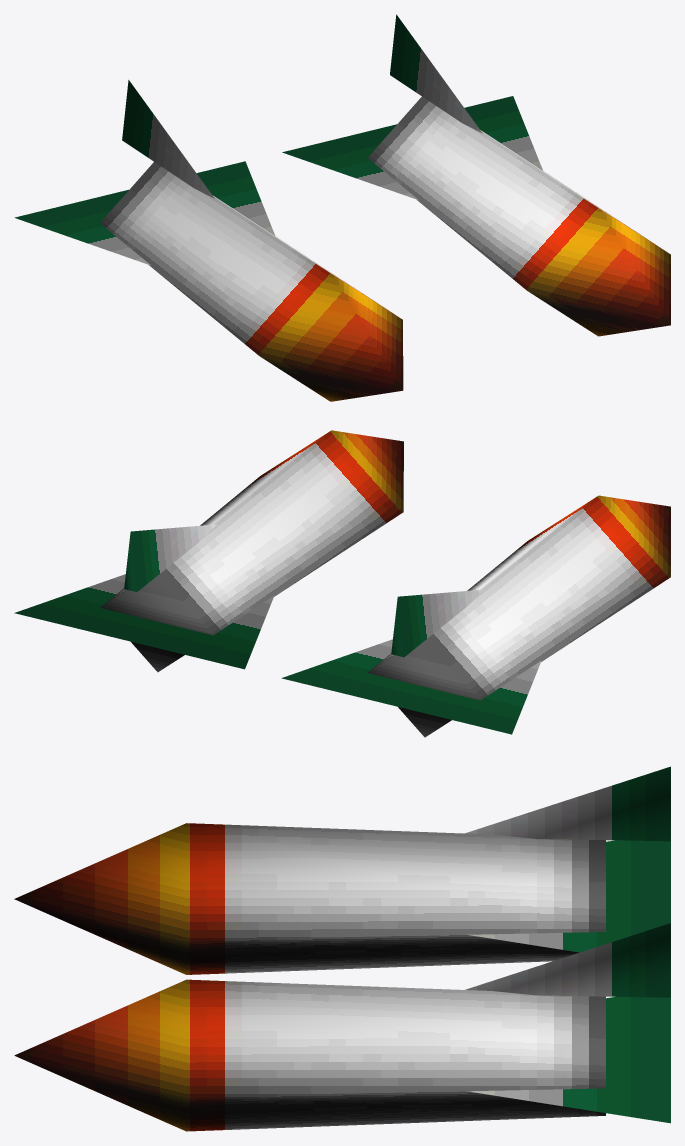
The model's file is datan_common_heavysiegem_6f7f7d69.obj.
3 views of the same model, one above another, from view 1: azimuth 30°, elevation 25°; view 2: azimuth 150°, elevation 25°; view 3: azimuth 270°, elevation 25° (orthographic). The views are drawn at different scales.
Visible parts, largest first — view 1: datan_common_heavysiegem_6f7f7d69; view 2: datan_common_heavysiegem_6f7f7d69; view 3: datan_common_heavysiegem_6f7f7d69.
Boxes of the visible parts, box(x1,y1,x2,y2) form: datan_common_heavysiegem_6f7f7d69: box(14, 14, 670, 401); datan_common_heavysiegem_6f7f7d69: box(14, 430, 670, 737); datan_common_heavysiegem_6f7f7d69: box(14, 766, 670, 1131).
Size of the model in its own units: 0.7443 by 0.2483 by 0.7083.
Materials: 1 (1 with a texture image).
